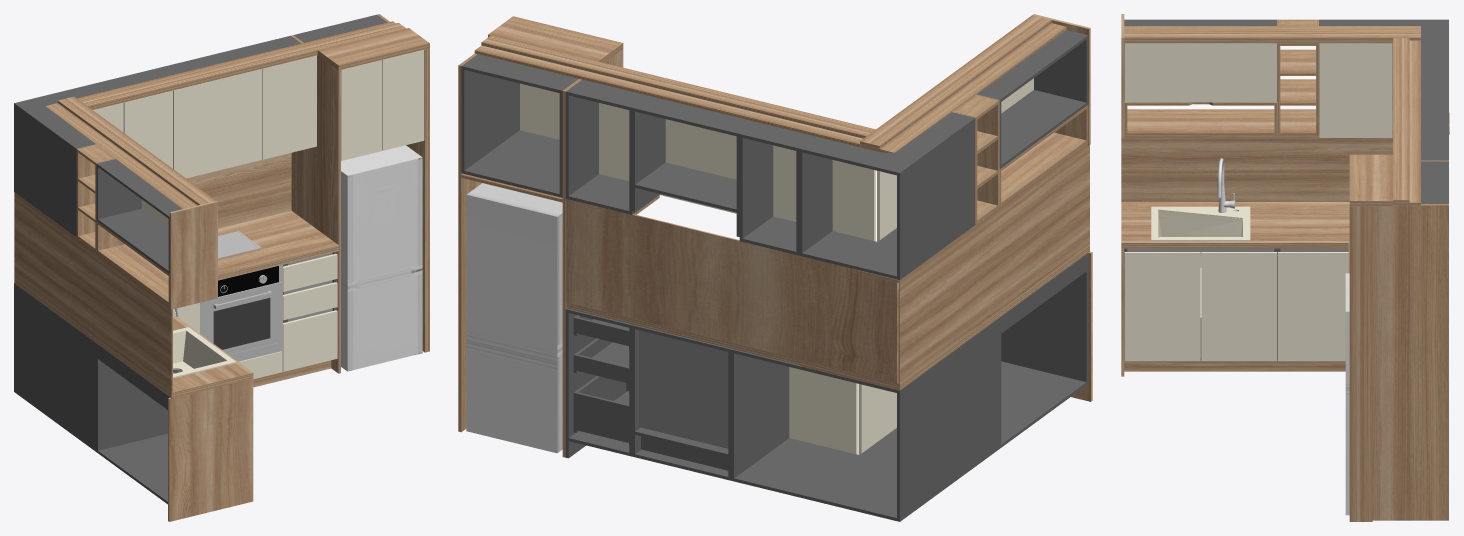
Rendered from Kitchen 993.fbx.
3 renders of one model, left to right at view 1: azimuth 30°, elevation 25°; view 2: azimuth 150°, elevation 25°; view 3: azimuth 270°, elevation 25°, orthographic. The views are drawn at different scales.
Parts seen in each view (by area): view 1: HLADILNIK, pCube248, pCube197, pCube170, pCube497, pCube128, Pechka_za_vgrajdane, pCube134, pCube216, pCube247, pCube246, pCube253 (+34 smaller); view 2: pCube247, HLADILNIK, pCube248, pCube170, Pechka_za_vgrajdane, pCube186, pCube134, pCube195, pCube184, pCube237, pCube221, pCube132 (+50 smaller); view 3: pCube129, pCube248, pCube201, pCube227, pCube228, pCube229, pCube130, pCube245, pCube212, pCube155, MIVKA, pCube238 (+22 smaller).
Boxes of the visible parts, x1,y1,x2,y2 form: HLADILNIK: (341,145,422,371); pCube248: (14,192,172,392); pCube197: (168,378,253,521); pCube170: (14,286,95,448); pCube497: (173,69,261,178); pCube128: (291,35,340,373); Pechka_za_vgrajdane: (200,265,282,361); pCube134: (14,106,75,233); pCube216: (262,55,316,159); pCube247: (186,153,291,228); pCube246: (169,201,217,309); pCube253: (218,211,338,280); pCube247: (566,199,897,382); HLADILNIK: (466,183,562,453); pCube248: (898,142,1089,383); pCube170: (897,322,997,518); Pechka_za_vgrajdane: (639,330,728,448); pCube186: (731,438,955,521); pCube134: (897,122,973,276); pCube195: (1001,253,1088,381); pCube184: (731,349,789,478); pCube237: (481,35,875,138); pCube221: (789,367,857,454); pCube132: (461,54,519,173); pCube129: (1372,204,1448,520); pCube248: (1121,135,1392,201); pCube201: (1124,43,1276,102); pCube227: (1124,252,1200,361); pCube228: (1201,252,1276,361); pCube229: (1277,252,1348,361); pCube130: (1349,206,1372,521); pCube245: (1121,202,1349,248); pCube212: (1319,43,1392,137); pCube155: (1127,109,1274,135); MIVKA: (1151,206,1250,267); pCube238: (1124,29,1420,40).
Size of the model in its own units: 2709 by 2211 by 1999.
